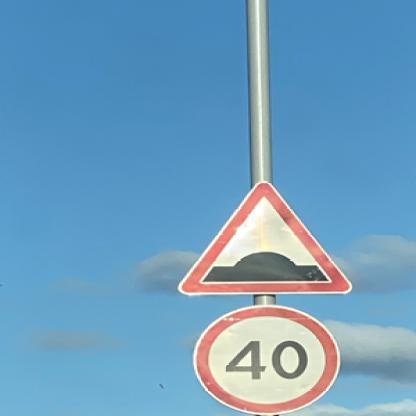speedlimit: (192, 306, 338, 415)
